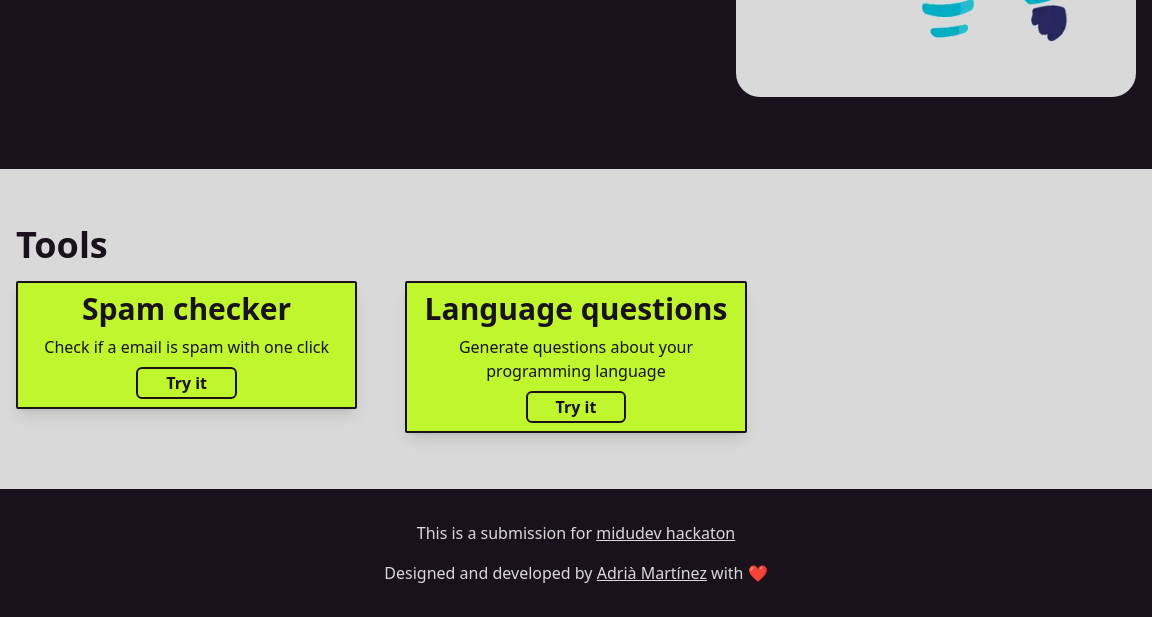
Test: Given the app › When click on button 'Try' of Spam checker tool › Then it should show a heading level 2 with text 'Spam checker'
(page scrolled)
Click the link "Try it" below "Check if a email is spam with one click".
click(187, 383)  # box [136, 367, 237, 399]
(page scrolled)
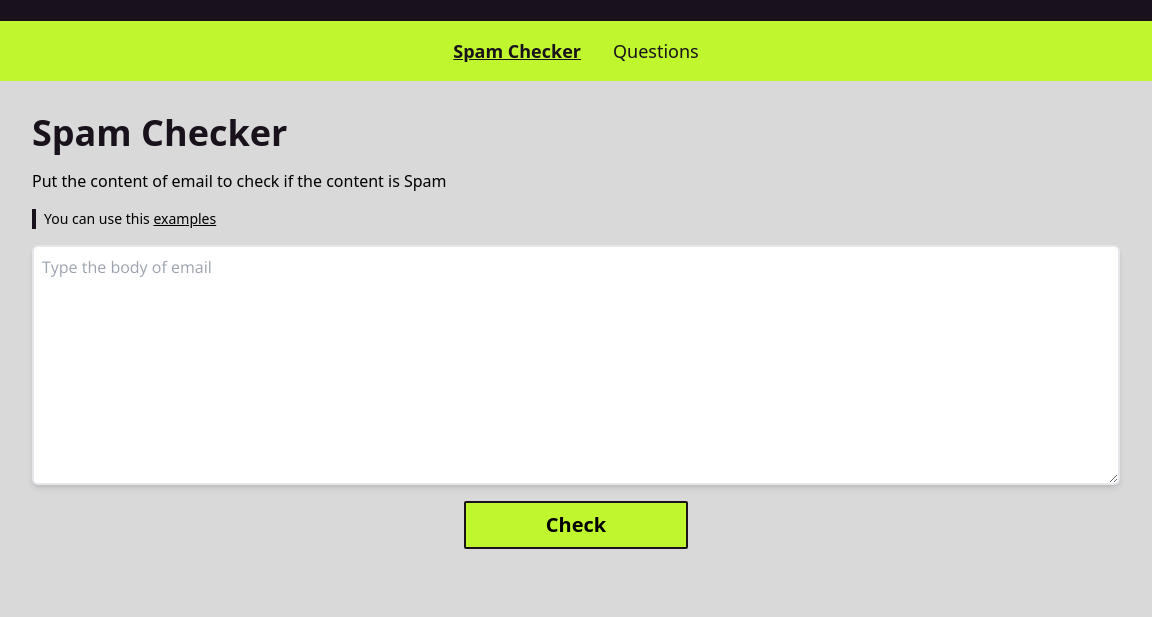
expect the heading "Spam Checker" is shown: met, box [32, 108, 287, 157]
